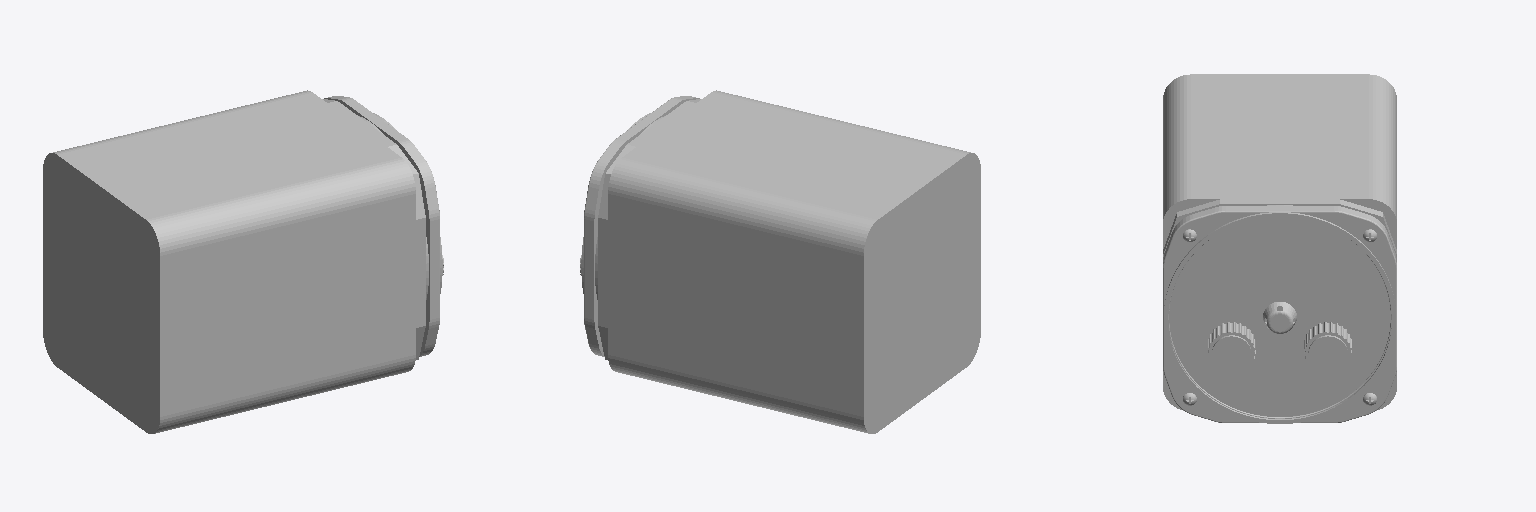
File: PHI-Wind.obj
The picture shows the model from 3 angles: view 1: azimuth 30°, elevation 25°; view 2: azimuth 150°, elevation 25°; view 3: azimuth 270°, elevation 25°; orthographic projection.
Visible parts, largest first — view 1: cover (Meshed), back_frontal (Meshed), frontal (Meshed); view 2: cover (Meshed), back_frontal (Meshed), frontal (Meshed); view 3: glass (Meshed), cover (Meshed), frontal (Meshed), back_frontal (Meshed), knob_001 (Meshed), knob_002 (Meshed), screews_03 (Meshed), screews_01 (Meshed).
Part boxes in pixels (x1,y1,x2,y2): cover (Meshed): (43,93,405,433); back_frontal (Meshed): (299,90,442,373); frontal (Meshed): (324,96,439,356); cover (Meshed): (618,93,980,433); back_frontal (Meshed): (581,90,724,373); frontal (Meshed): (584,96,699,356); glass (Meshed): (1169,217,1390,416); cover (Meshed): (1163,74,1396,214); frontal (Meshed): (1163,206,1396,422); back_frontal (Meshed): (1163,194,1396,423); knob_001 (Meshed): (1208,322,1255,374); knob_002 (Meshed): (1304,322,1351,374); screews_03 (Meshed): (1263,301,1296,333); screews_01 (Meshed): (1183,229,1376,405).
Size of the model in its own units: 126 by 82.56 by 82.56.